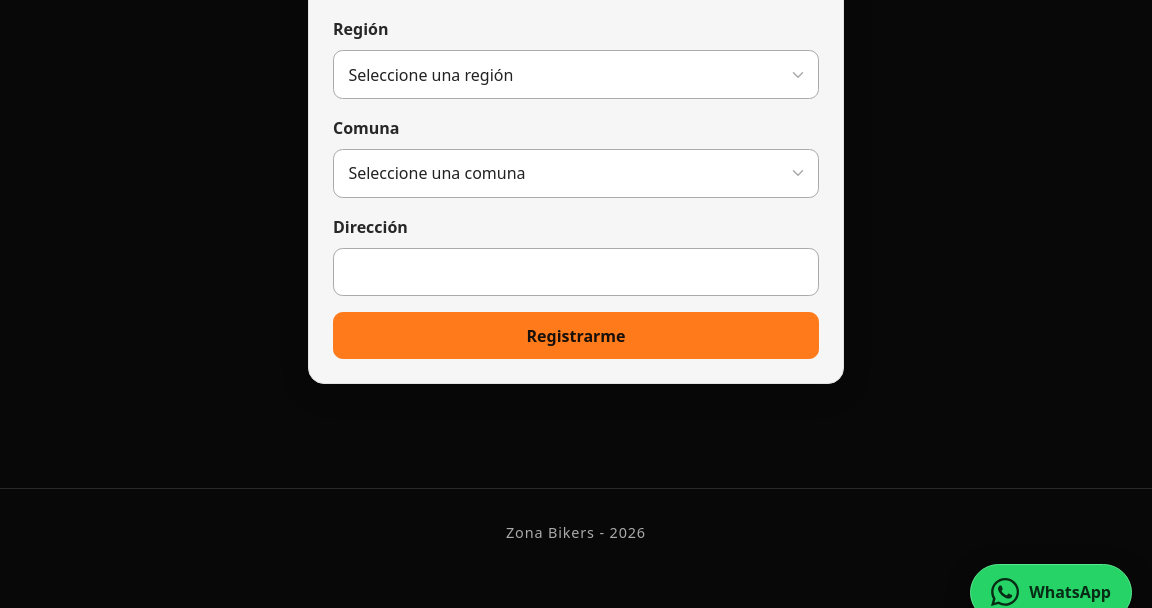
Test case: Formularios públicos › no registra campos vacíos ni un correo repetido
(page scrolled)
Click the button "Registrarme" at (576,336), box [333,312,819,359]
(page scrolled)
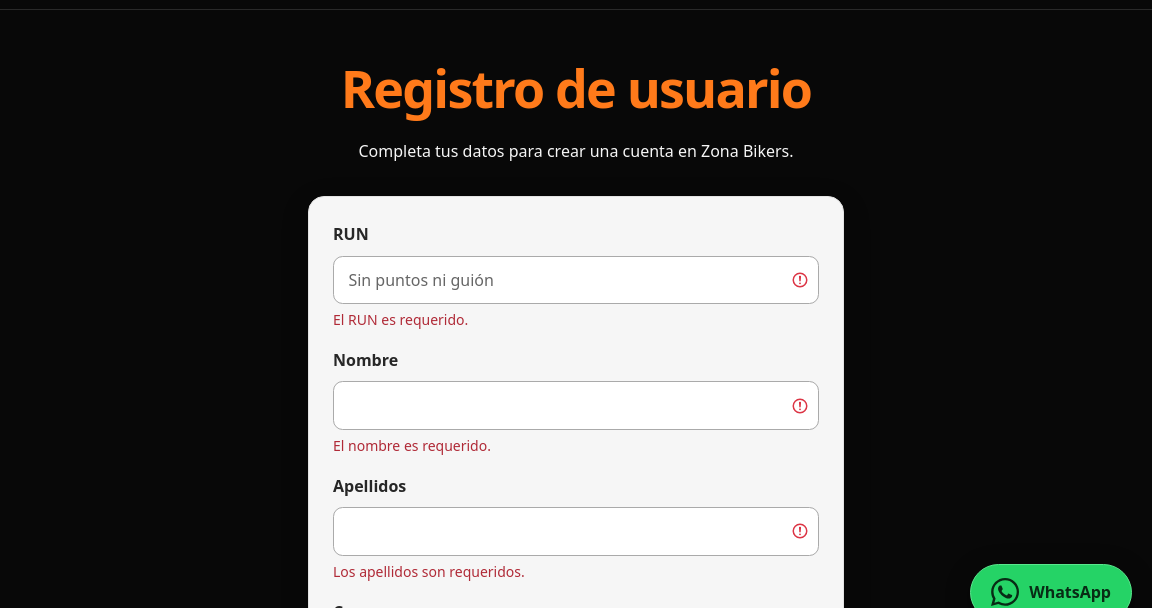
Now the text "El RUN es requerido." is shown, box [333,310,468,329]
Type "123456785" into the field labelled "RUN" at (576,280), box [333,256,819,304]
Type "Ana" into the field labelled "Nombre" at (576,406), box [333,381,819,430]
Type "Soto" into the field labelled "Apellidos" at (576,532), box [333,507,819,556]
(page scrolled)
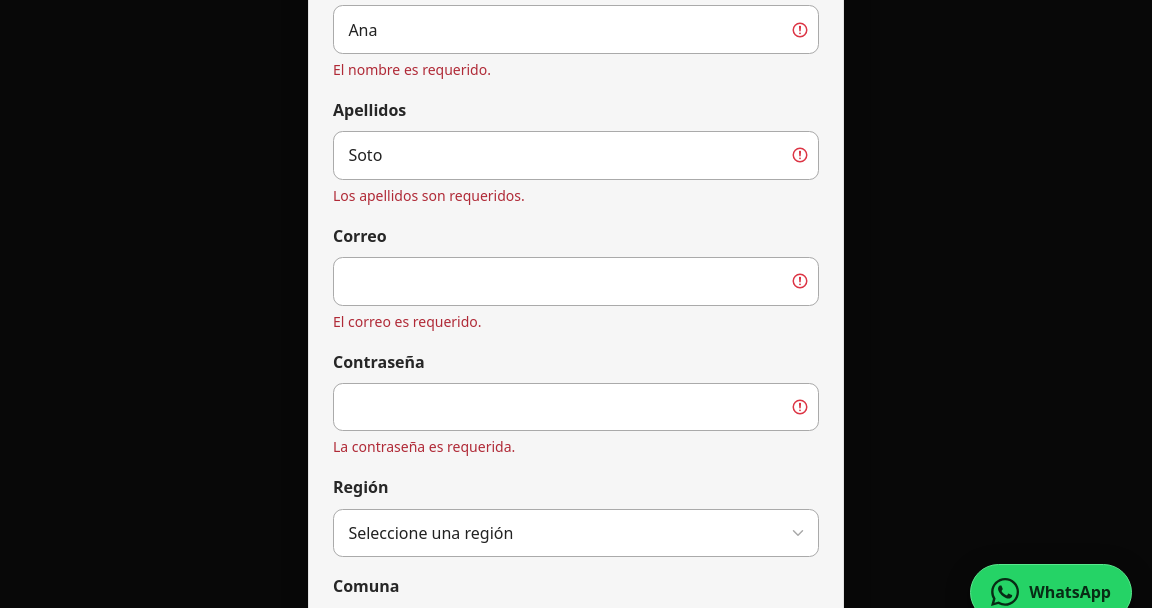
Type "admin@duoc.cl" into the field labelled "Correo" at (576,281), box [333,257,819,306]
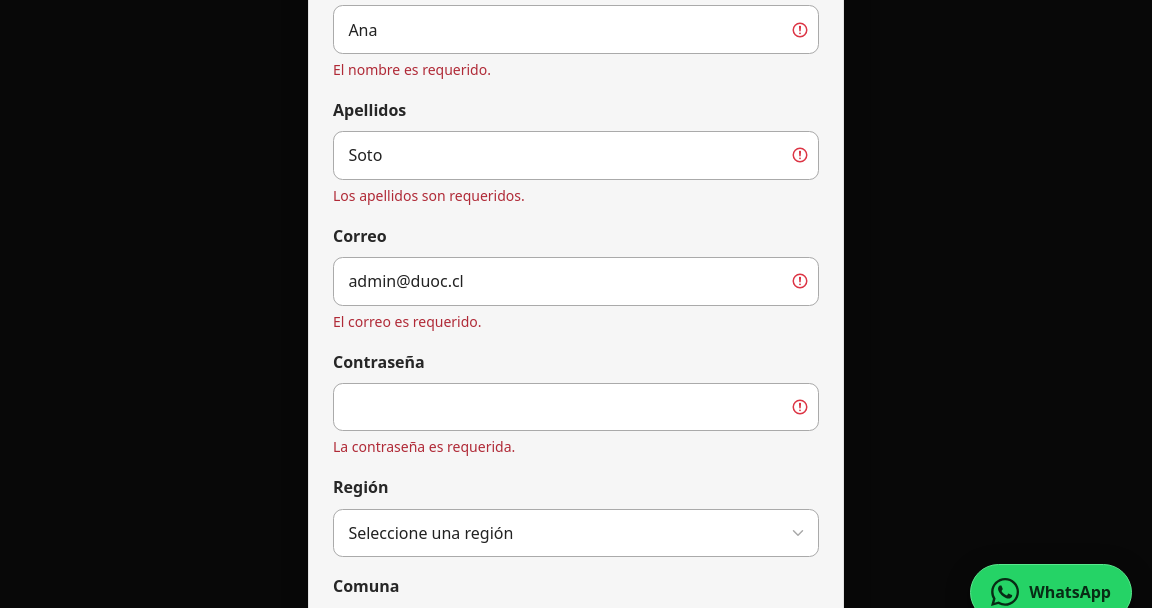
Type "12345" into the password field labelled "Contraseña" at (576,407), box [333,383,819,431]
(page scrolled)
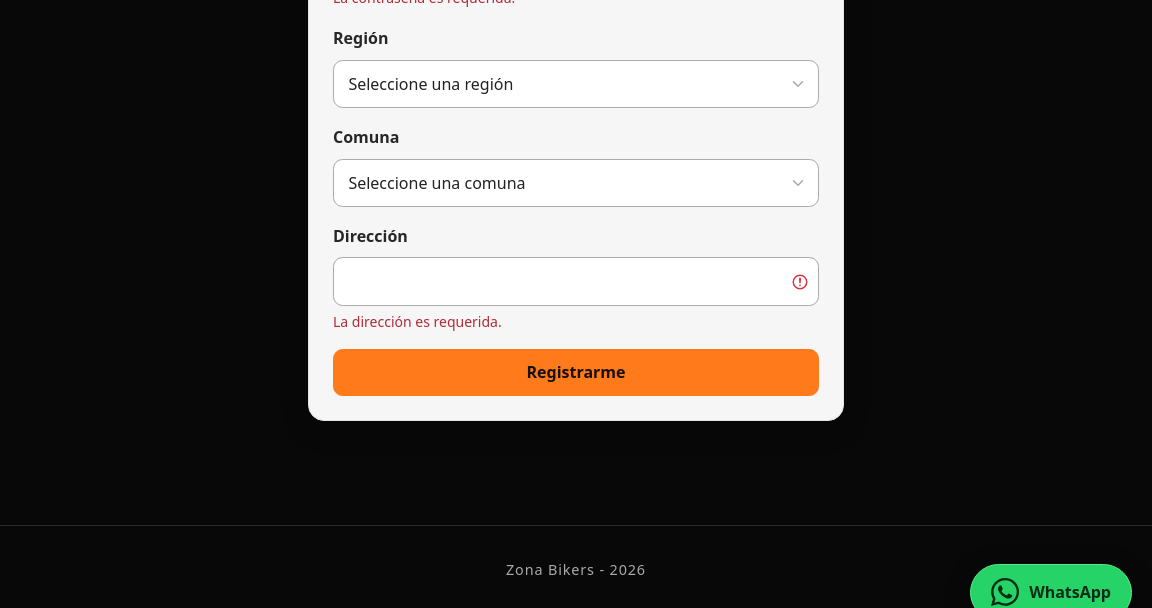
Type "Calle 1" into the field labelled "Dirección" at (576,282), box [333,257,819,306]
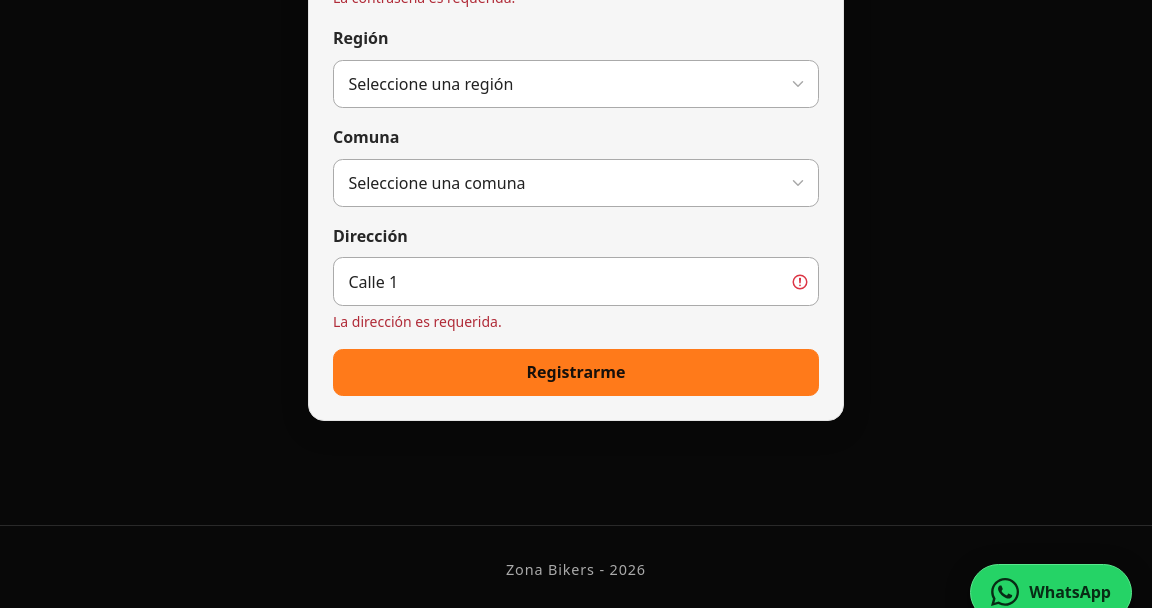
Click the button "Registrarme" at (576,372), box [333,349,819,396]
(page scrolled)
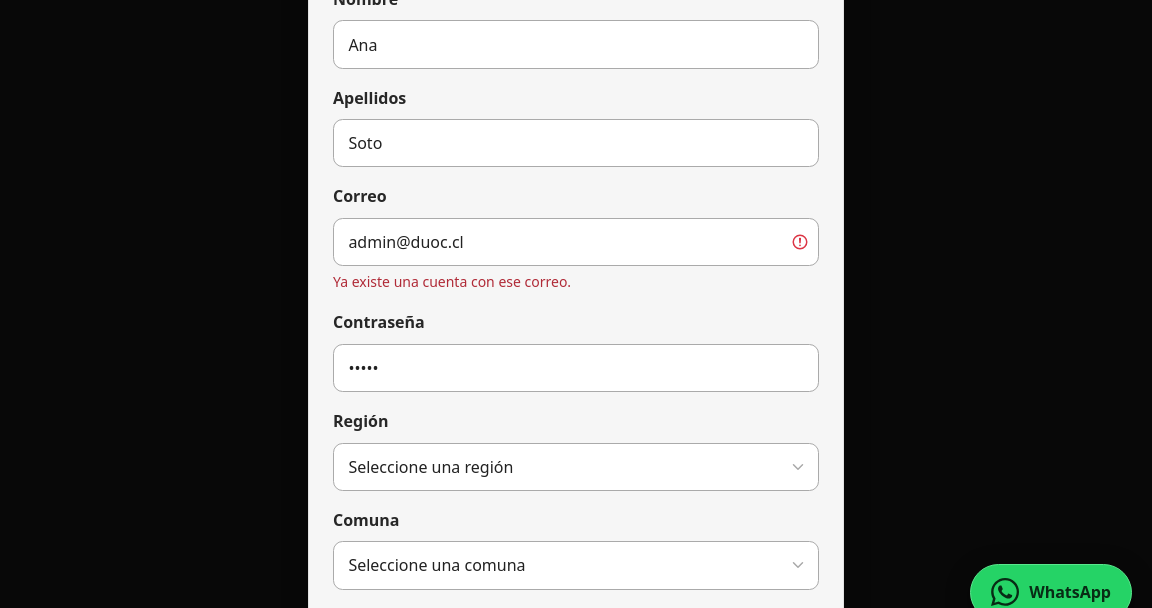
Now the text "Ya existe una cuenta con ese correo." is shown, box [333,272,571,291]
